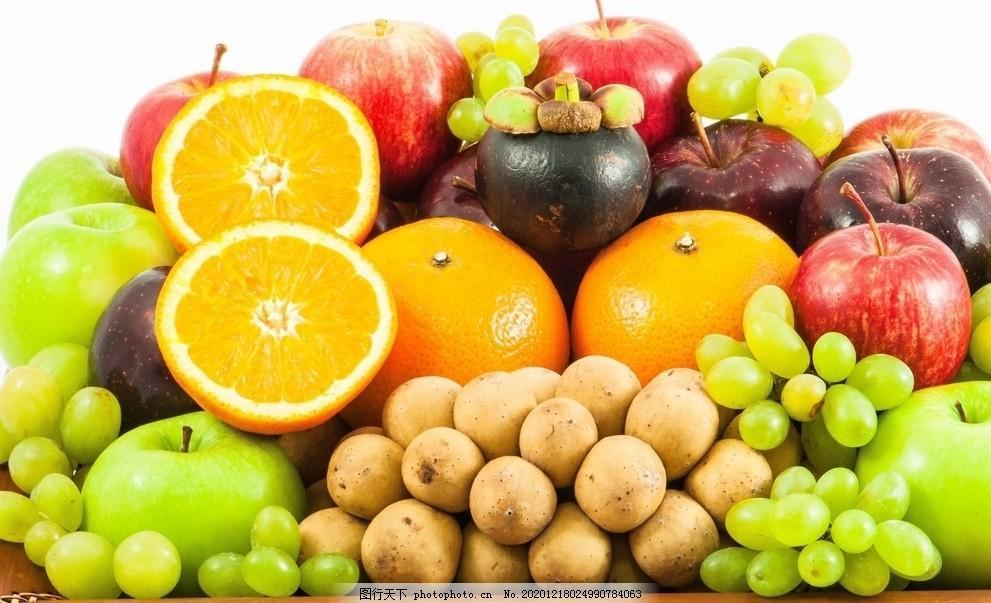apple: (292, 14, 467, 203), (796, 139, 991, 295), (79, 412, 305, 546), (791, 220, 971, 388), (1, 203, 176, 374), (851, 378, 990, 587), (510, 8, 702, 155)
